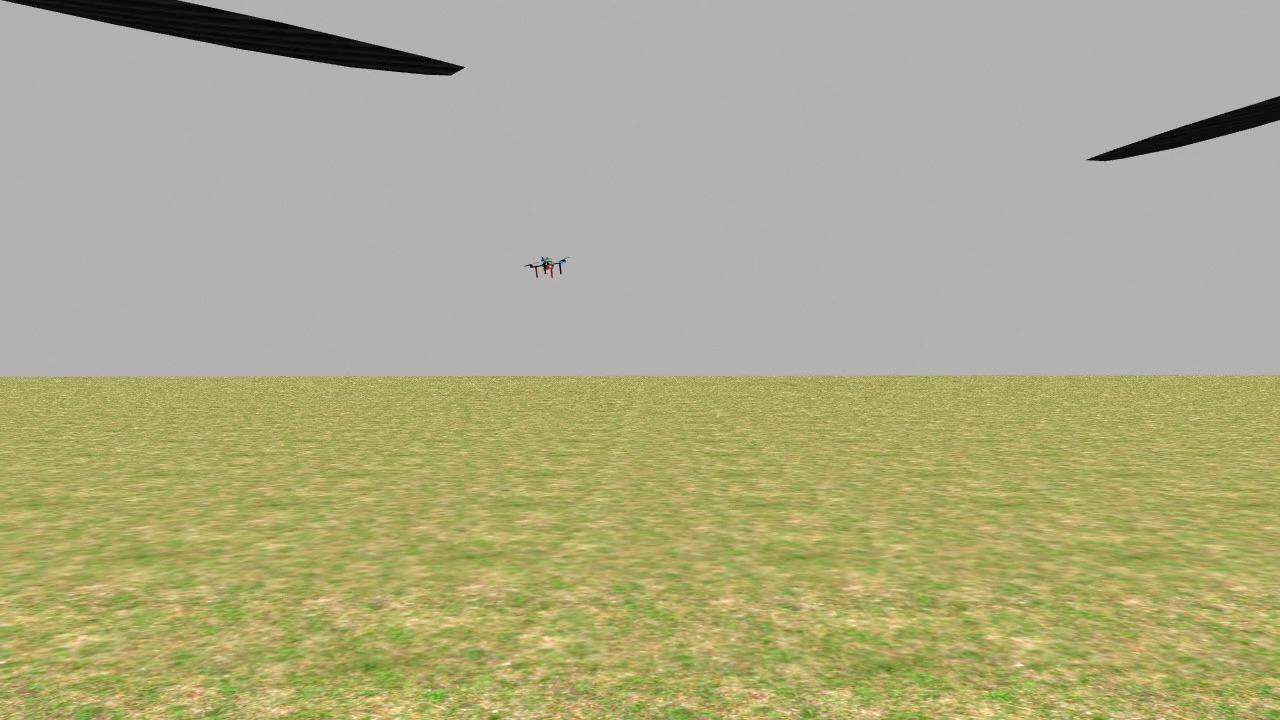UAV: (523, 250, 567, 288)
